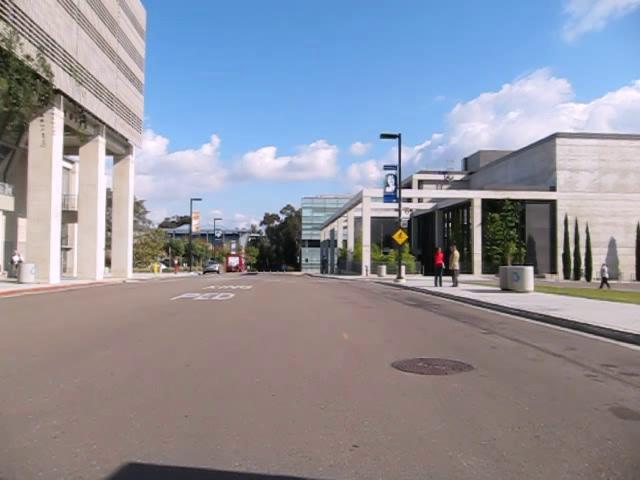pedestrianCrossing: (391, 227, 409, 246)
